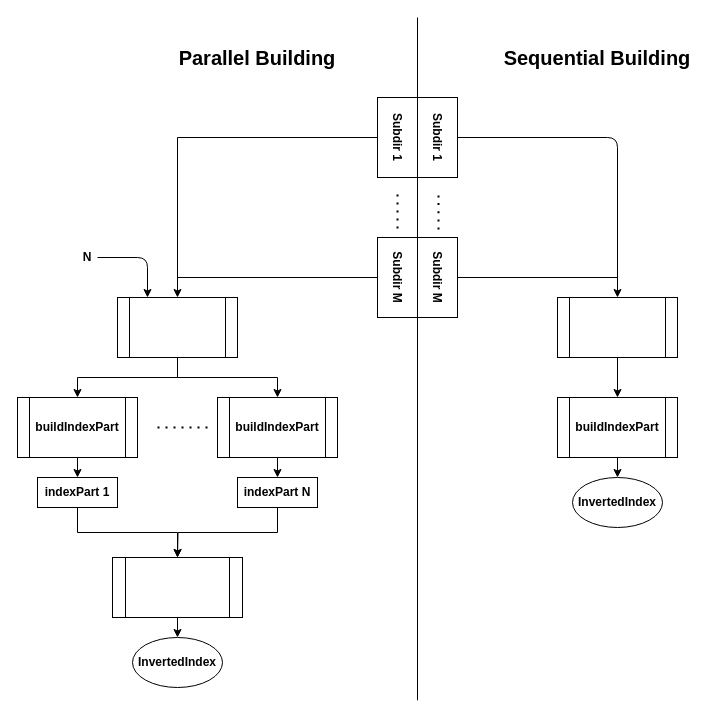
Image size: 715x719. Some labels were removed from this diagram. Each missing label, with the centre of its shape:
"mergeIndexParts" goes at (177,587).
"parallelBuild" goes at (177,327).
"sequentialBuild" goes at (617,327).
